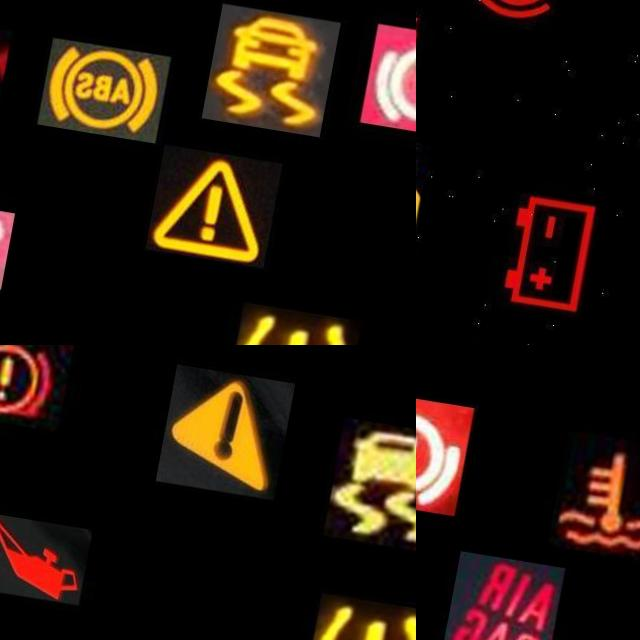Central Warning lamp: (161, 356, 296, 488), (162, 134, 295, 254)
Engine cooling system: (562, 420, 640, 550), (0, 10, 21, 125)
